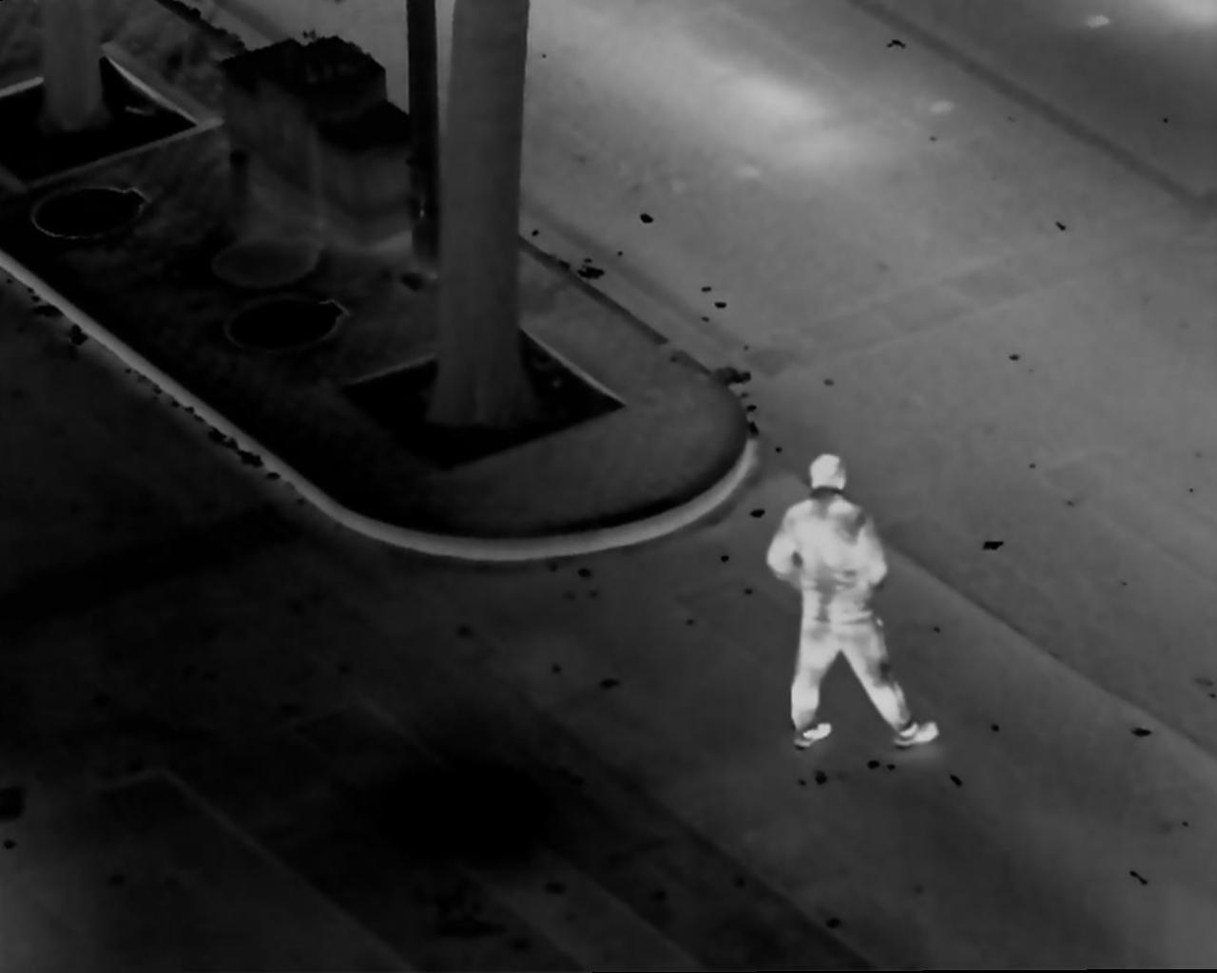person: (763, 450, 948, 748)
